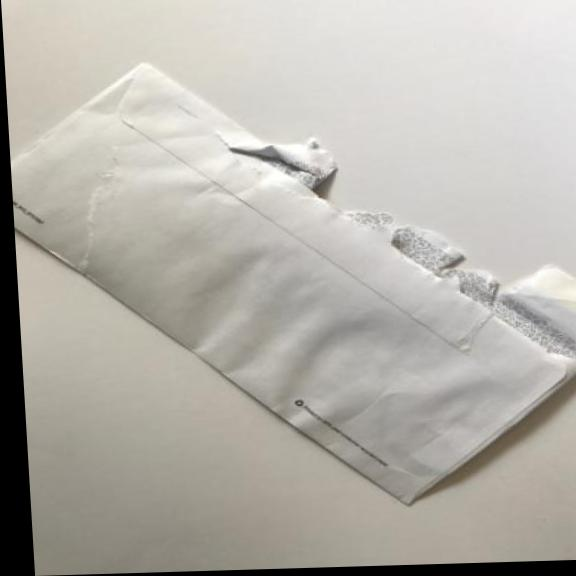Kertas: (4, 45, 576, 518)
